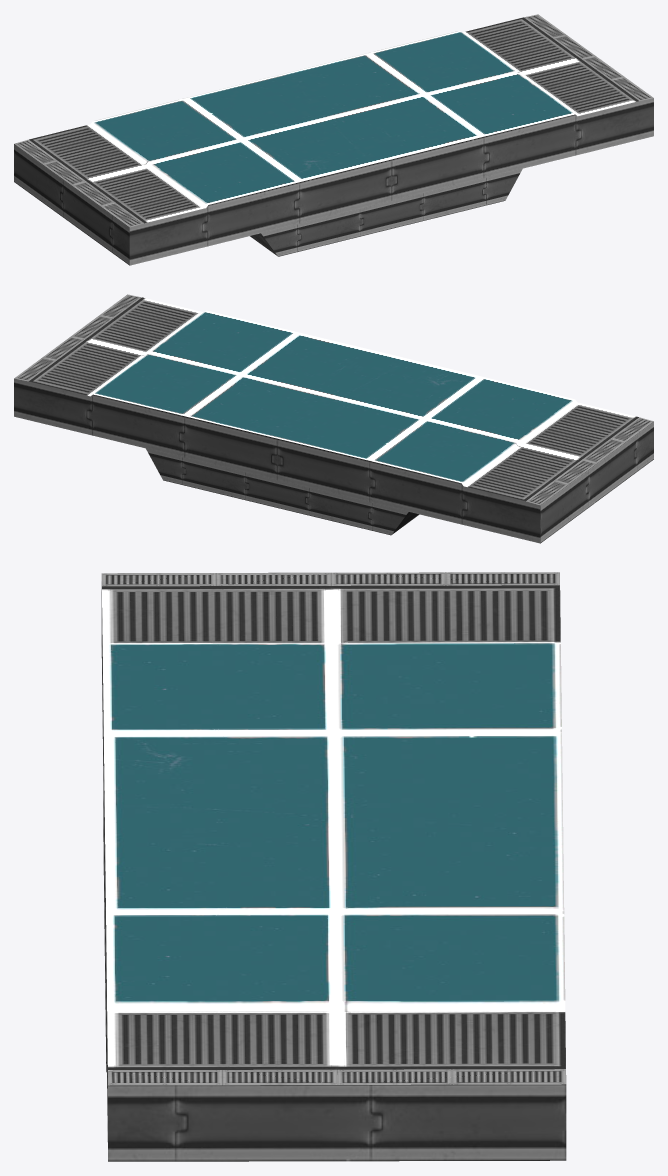
The model's file is ARC1110034.fbx.
The picture shows the model from 3 angles, top to bottom: view 1: azimuth 30°, elevation 25°; view 2: azimuth 150°, elevation 25°; view 3: azimuth 270°, elevation 25°; orthographic projection. The views are drawn at different scales.
Parts seen in each view (by area): view 1: smARC1110034; view 2: smARC1110034; view 3: smARC1110034.
Part boxes in pixels (x1,y1,x2,y2): smARC1110034: [14, 14, 653, 265]; smARC1110034: [14, 294, 653, 543]; smARC1110034: [101, 572, 566, 1161].
Bounding box in the file's own units: 530 × 66.69 × 203.
1 material, 1 textured.
